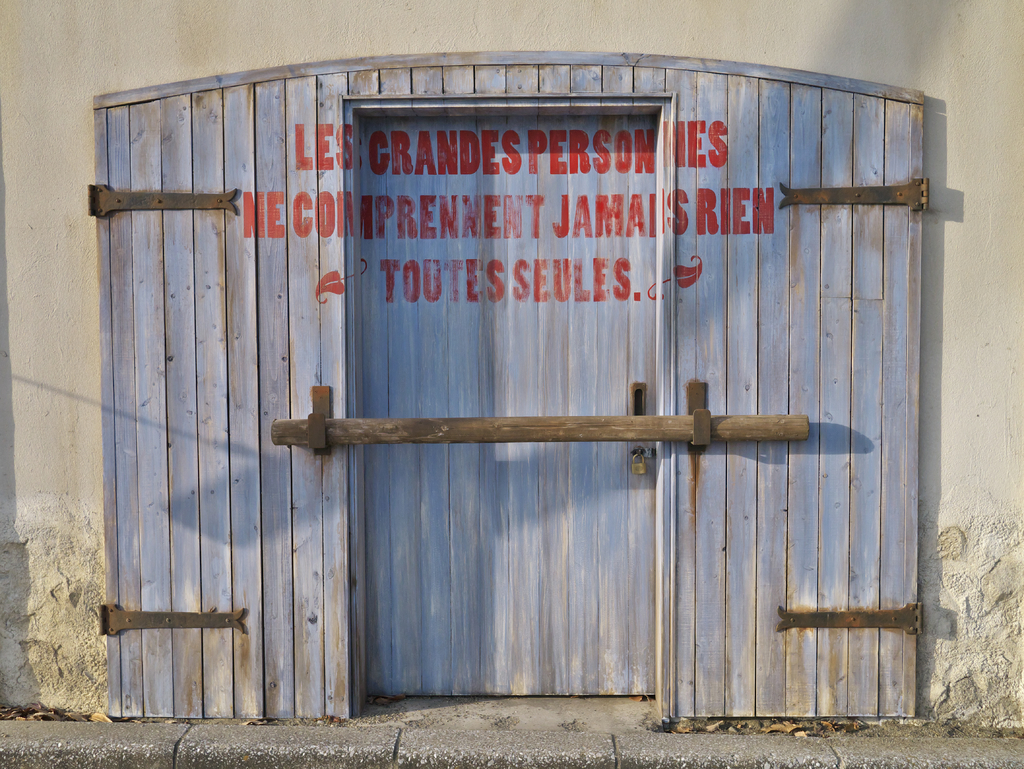Door: (177, 38, 898, 736)
